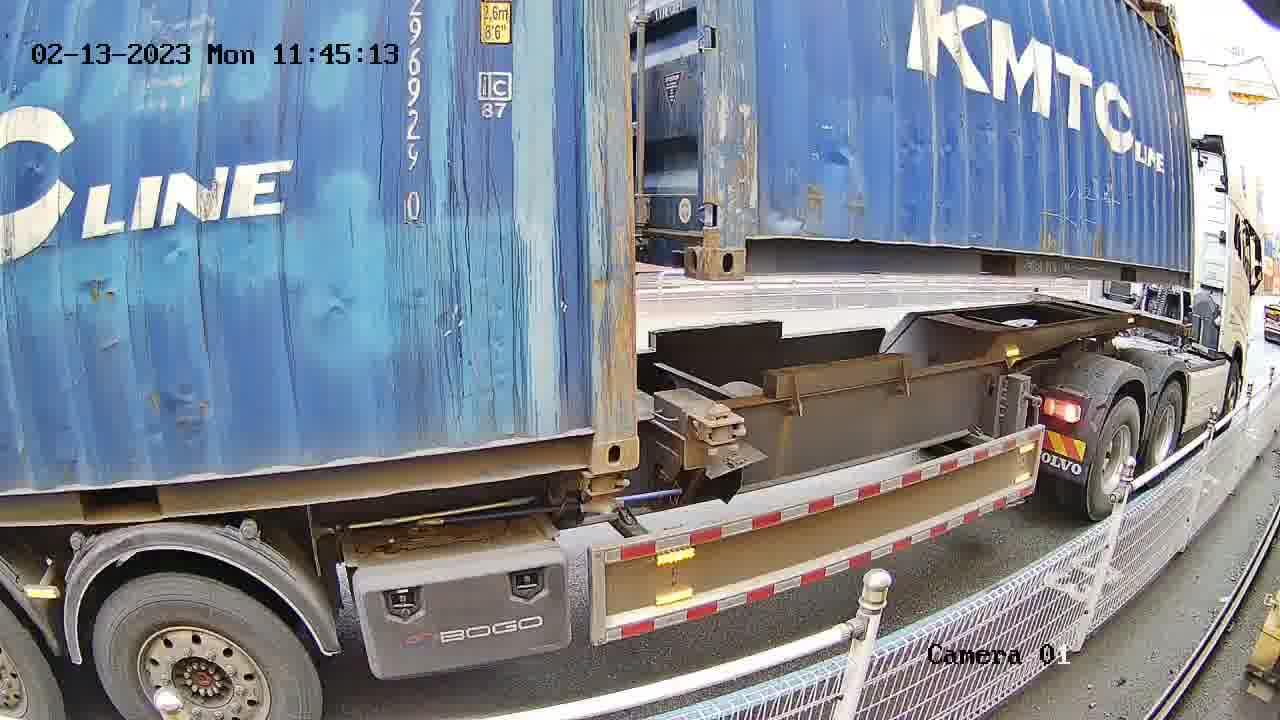Cone: (697, 402, 743, 455), (579, 472, 629, 514)
Hole_L: (710, 206, 791, 280)
Hole_R: (550, 404, 640, 480), (661, 208, 709, 280)
Tire: (89, 574, 321, 715), (1090, 399, 1140, 516), (1144, 383, 1183, 476)
